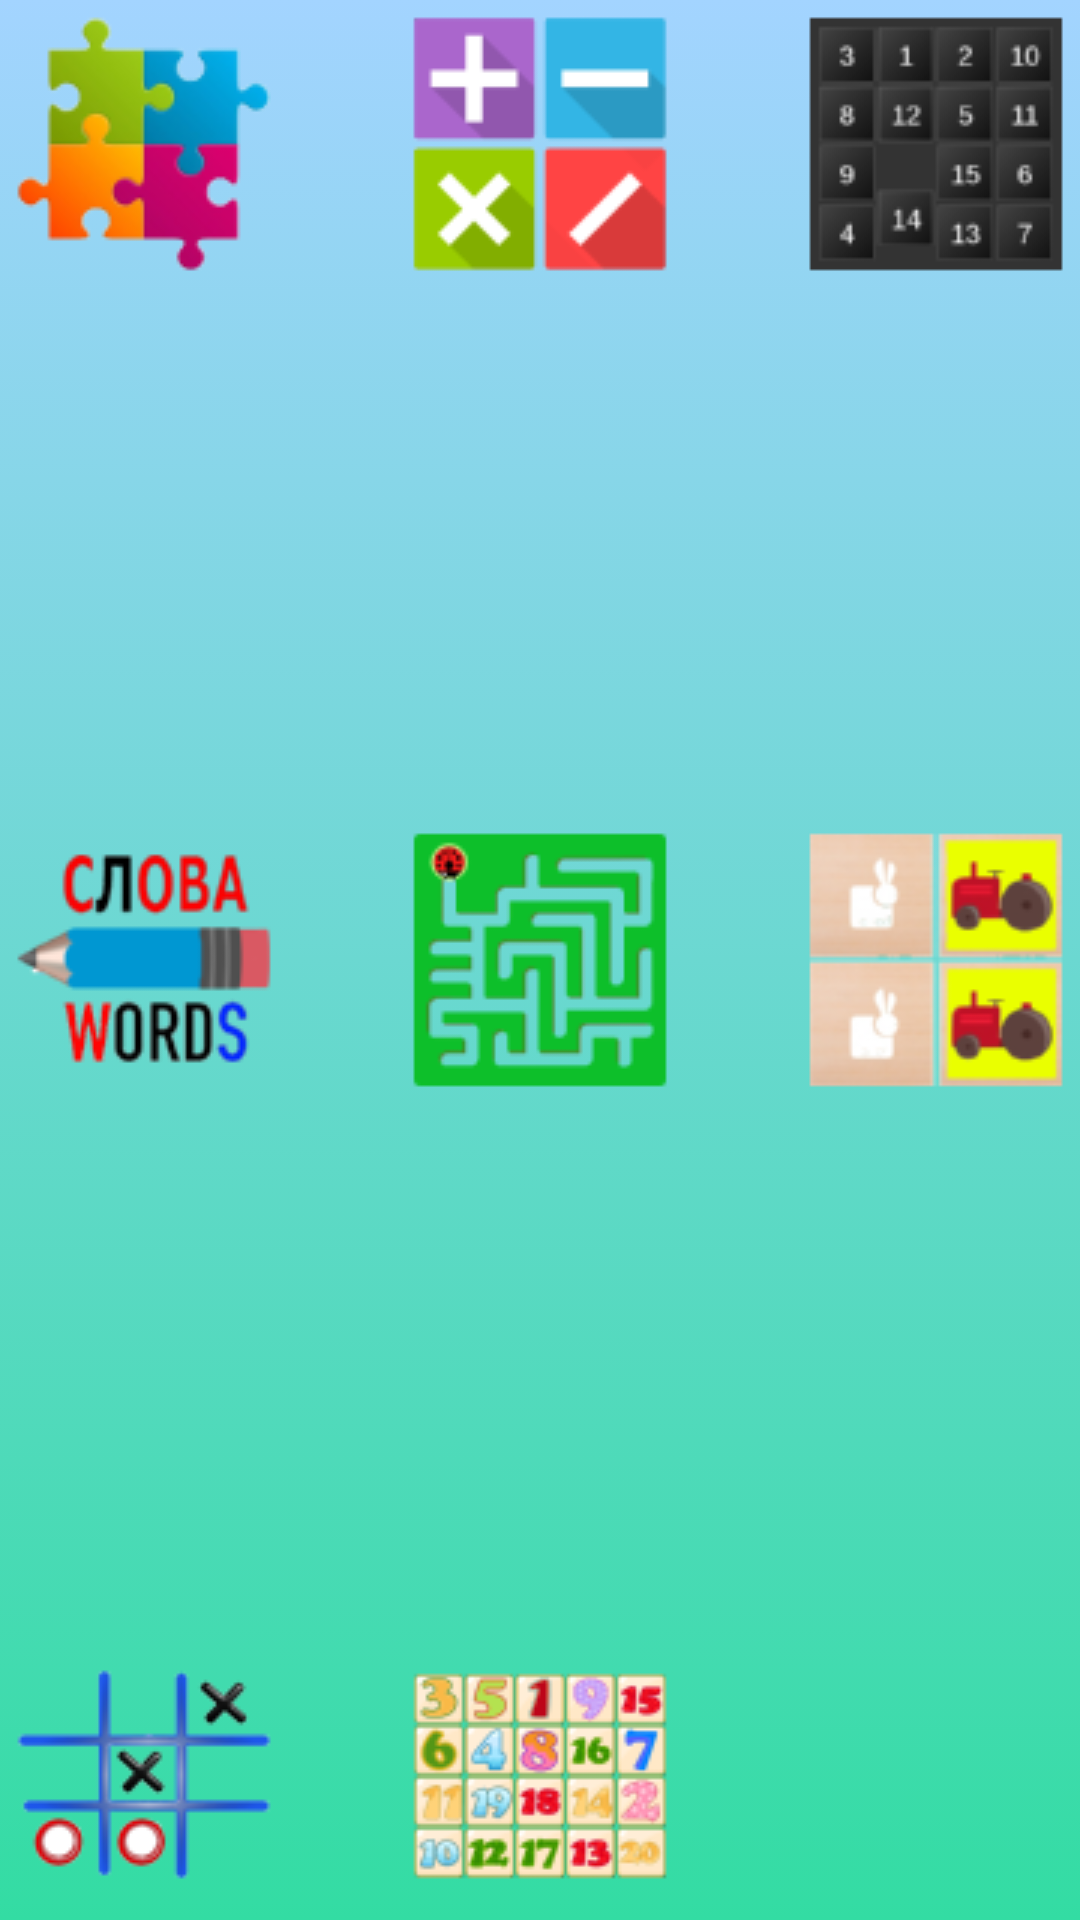

Screen size 1080px x 1920px. Icon name, then its center in pixels as (x=x, y=y):
krestiki noliki: (x=144, y=1755)
labirint: (x=540, y=960)
math: (x=540, y=144)
piatnaski: (x=936, y=144)
puzzle: (x=143, y=144)
shulte: (x=540, y=1776)
